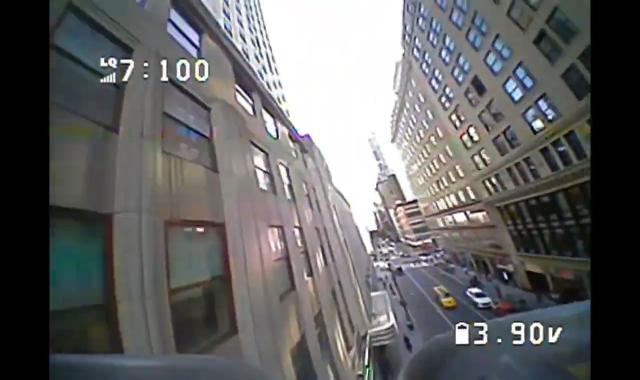car: (430, 279, 460, 314), (464, 283, 495, 312)
